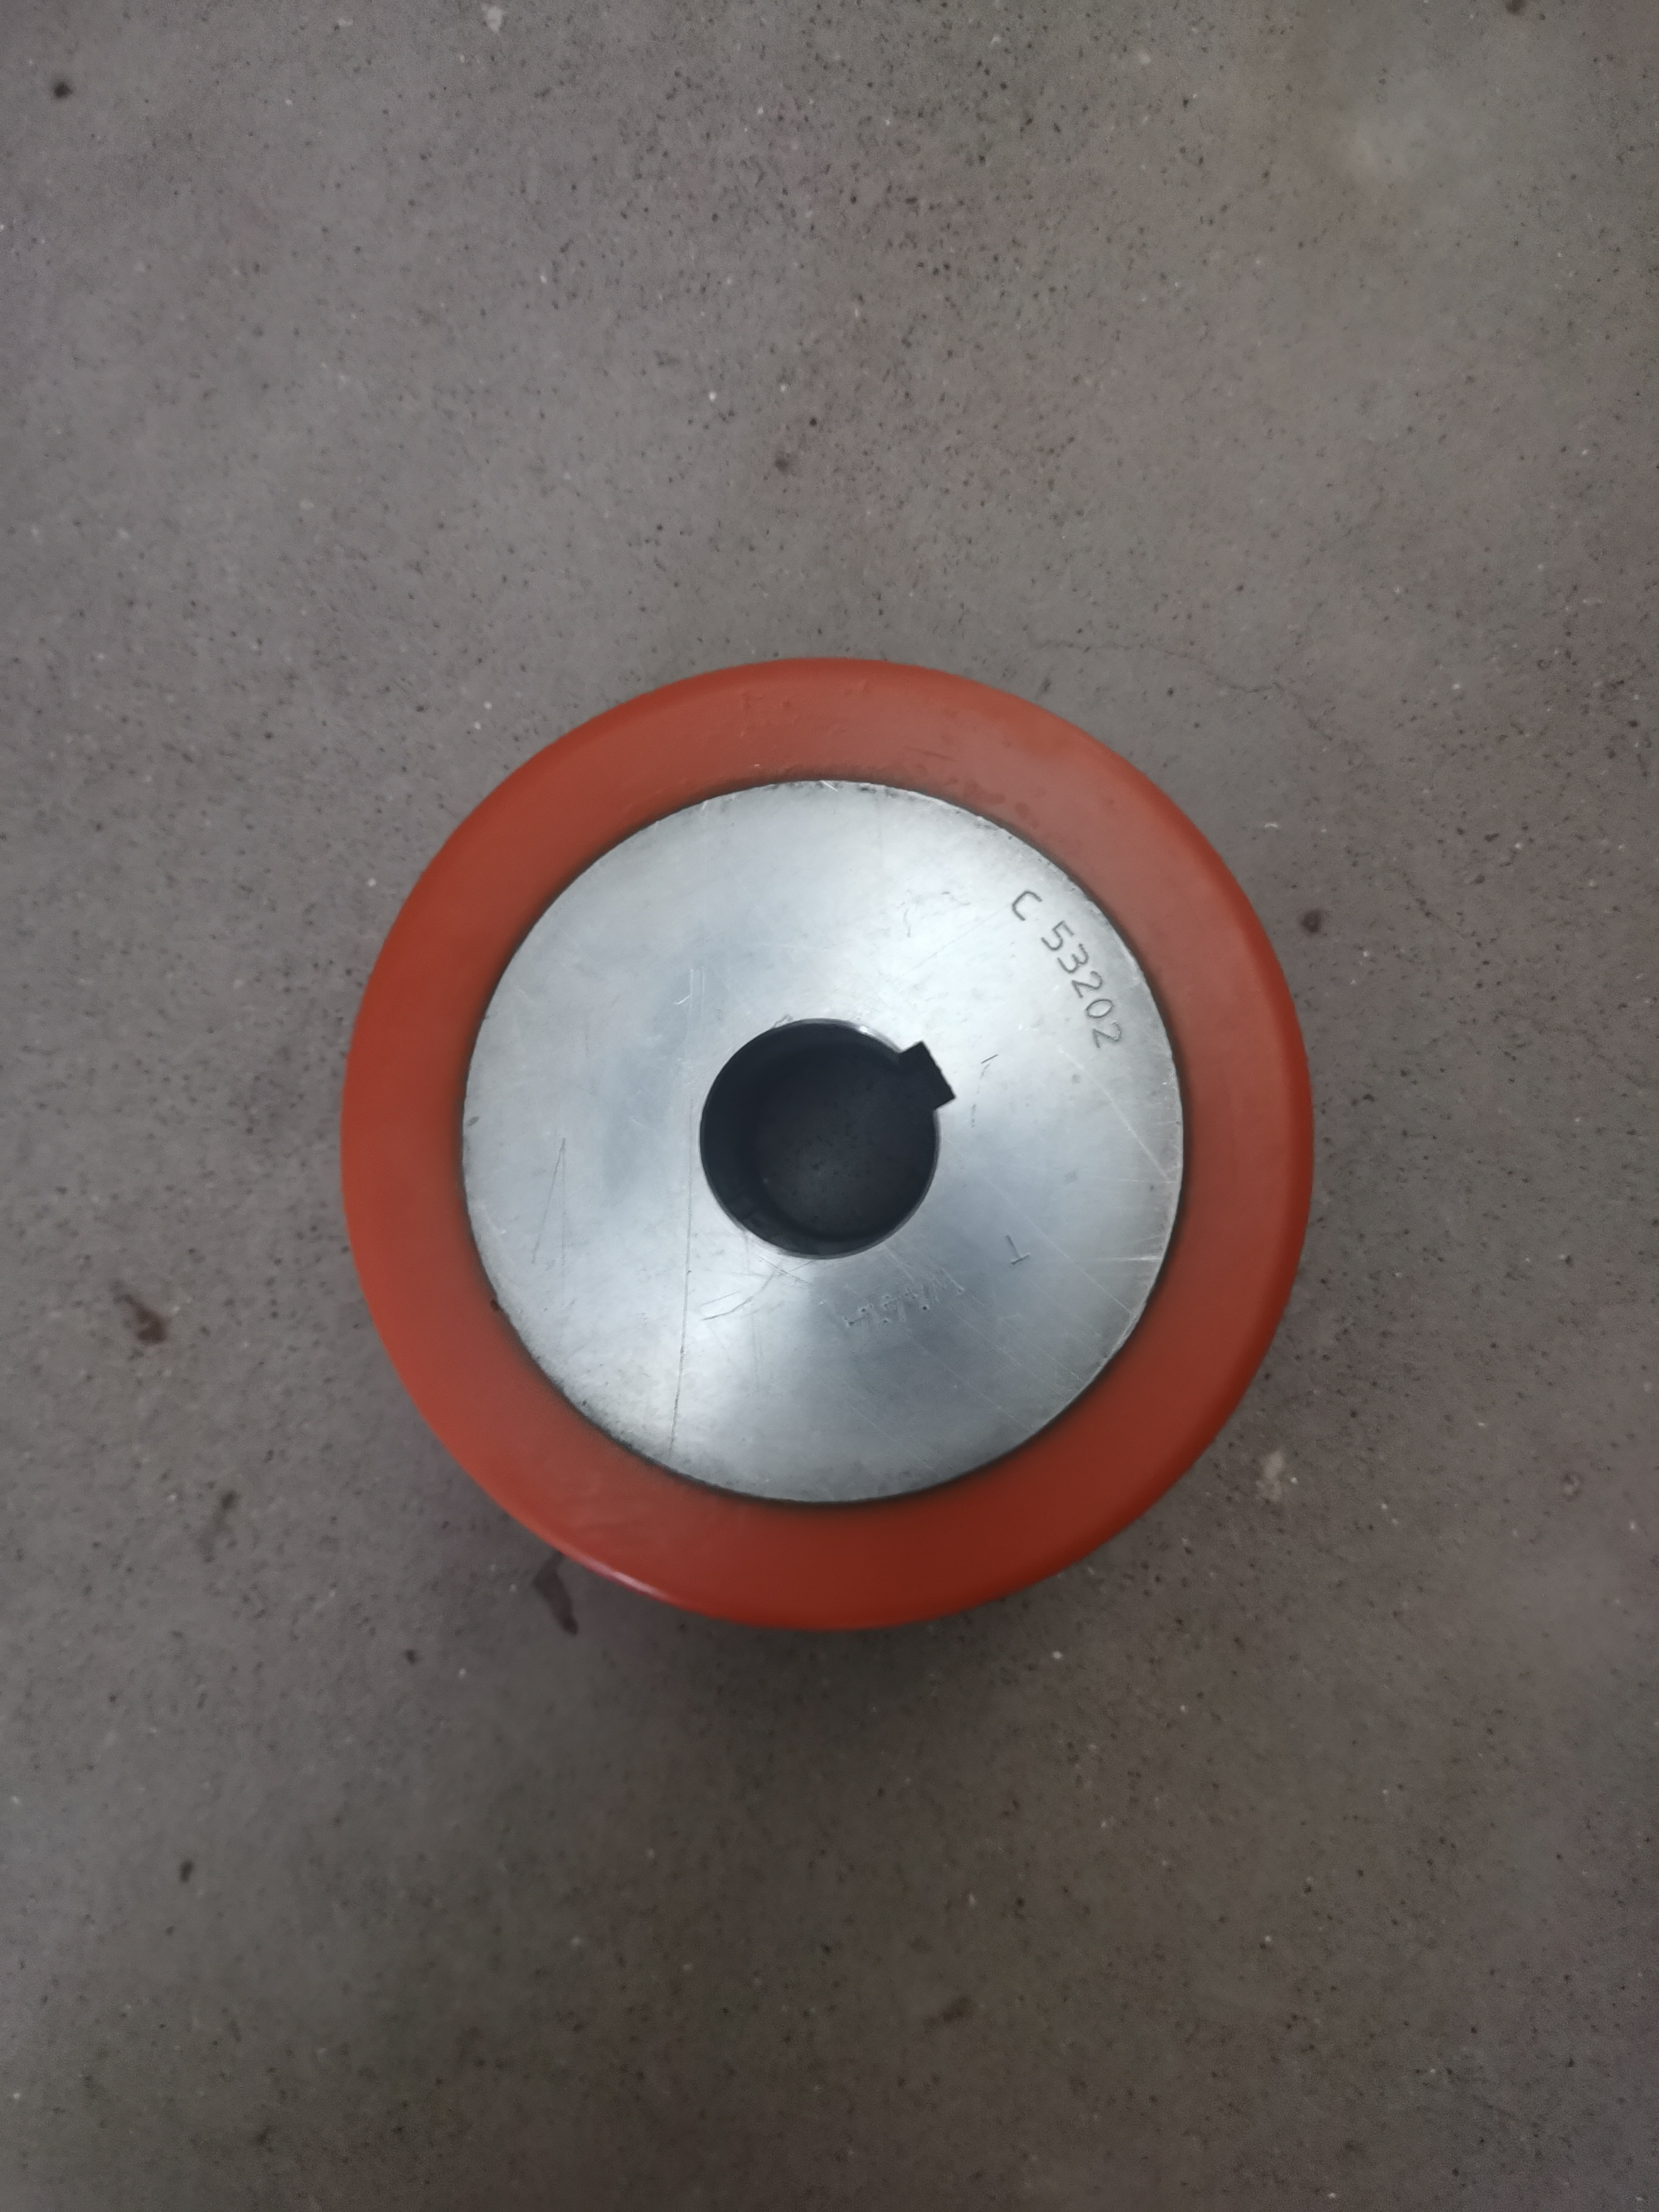good_wheel: (296, 613, 1312, 1578)
